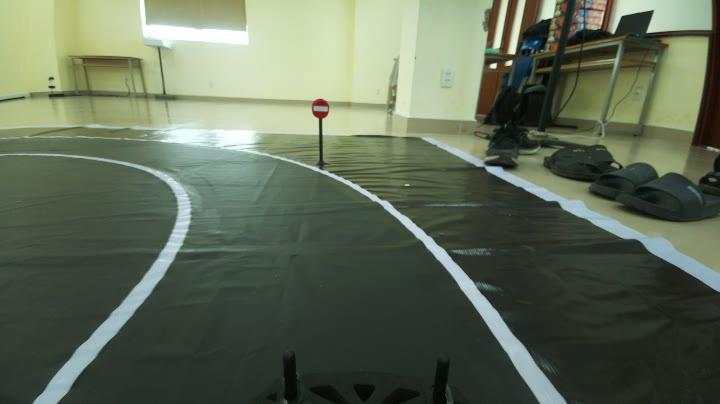no_entry: (302, 94, 339, 128)
